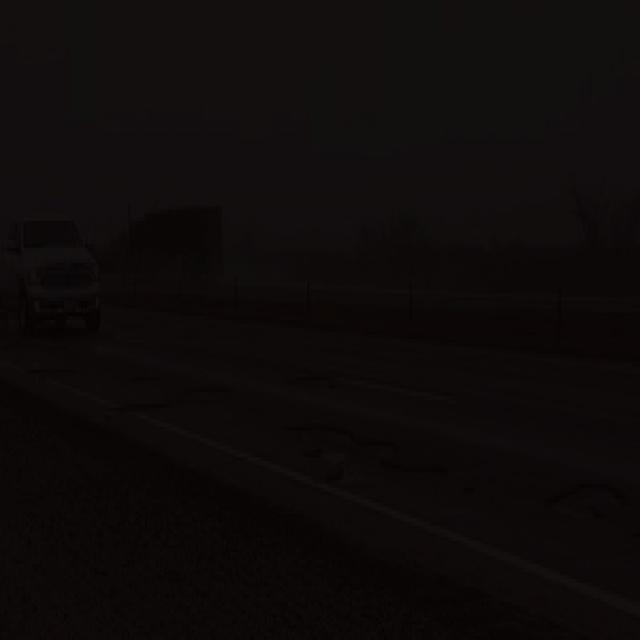Pothole: (290, 417, 452, 497), (534, 468, 631, 531), (116, 394, 175, 424), (16, 359, 80, 383), (292, 376, 340, 396)
